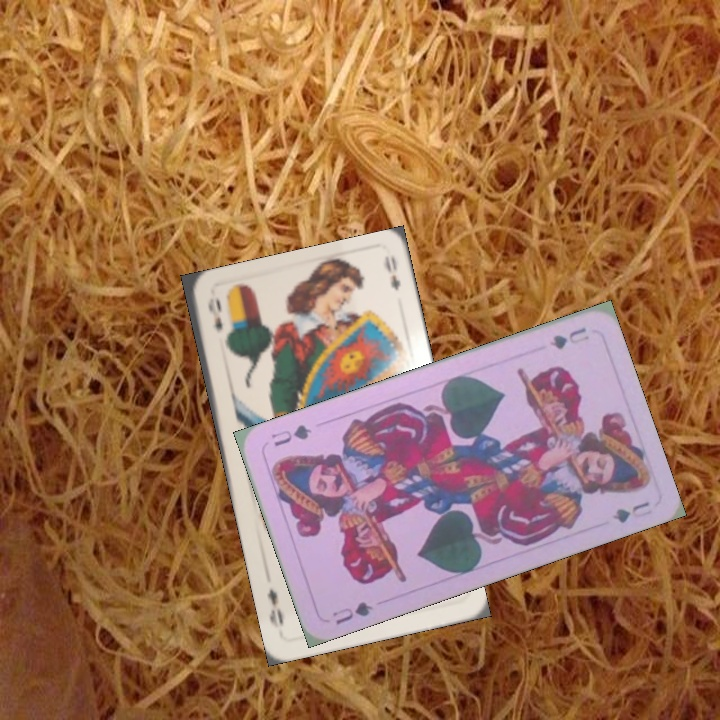EO: (203, 294, 225, 335)
GU: (328, 597, 376, 628), (545, 323, 592, 352)
